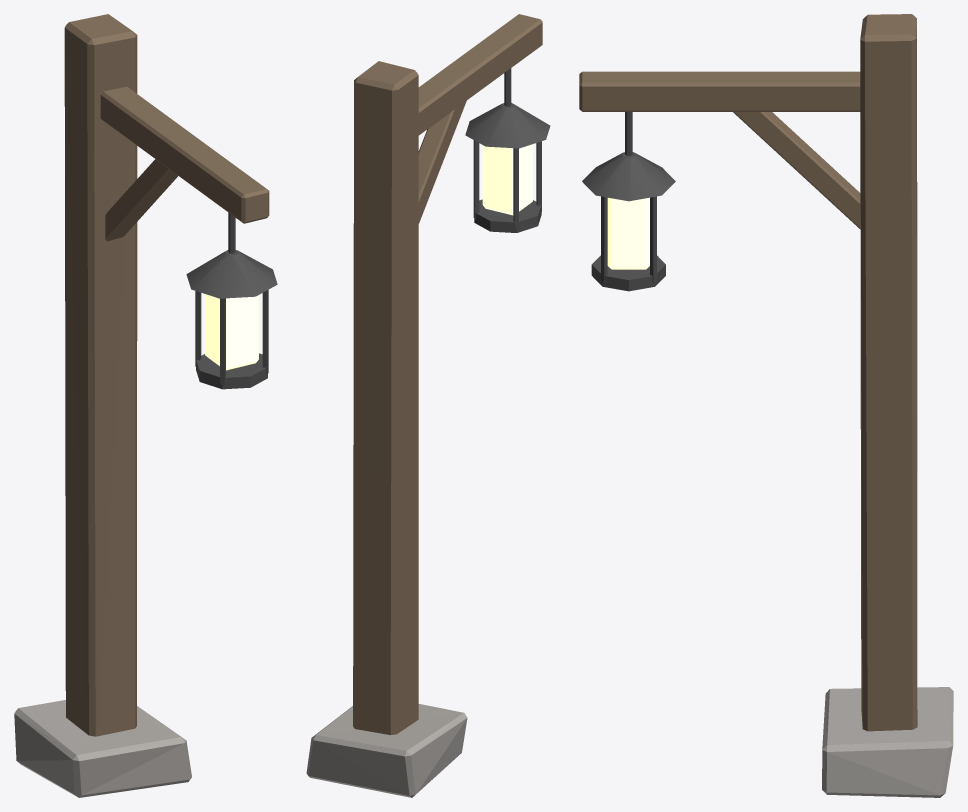
Rendered from post_lantern_lit.glb.
3 renders of one model, left to right at view 1: azimuth 30°, elevation 25°; view 2: azimuth 150°, elevation 25°; view 3: azimuth 270°, elevation 25°, orthographic. The views are drawn at different scales.
Visible parts, largest first — view 1: wood, stone, iron, glow; view 2: wood, stone, iron, glow; view 3: wood, stone, iron, glow.
Part boxes in pixels (bbox=[...]): wood: bbox=[64, 14, 269, 736]; stone: bbox=[14, 700, 191, 797]; iron: bbox=[186, 212, 277, 389]; glow: bbox=[205, 294, 258, 370]; wood: bbox=[353, 14, 542, 735]; stone: bbox=[306, 704, 467, 797]; iron: bbox=[465, 68, 550, 232]; glow: bbox=[482, 144, 532, 215]; wood: bbox=[579, 14, 917, 731]; stone: bbox=[822, 687, 953, 797]; iron: bbox=[582, 112, 675, 291]; glow: bbox=[607, 197, 649, 269].
Bounding box in the file's own units: 0.5471 × 3.33 × 1.51.
